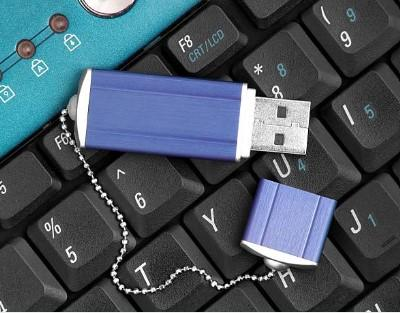USB Flash Drive: (71, 69, 310, 163)
